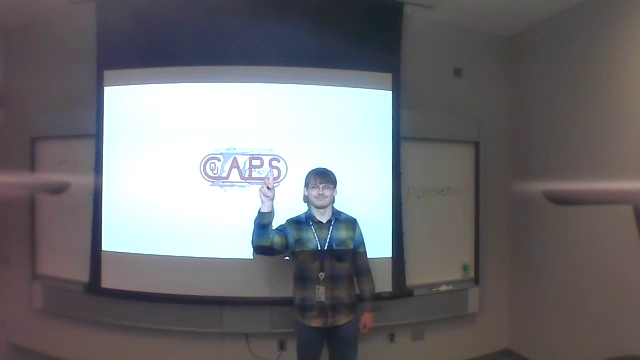up: (252, 165, 277, 200)
